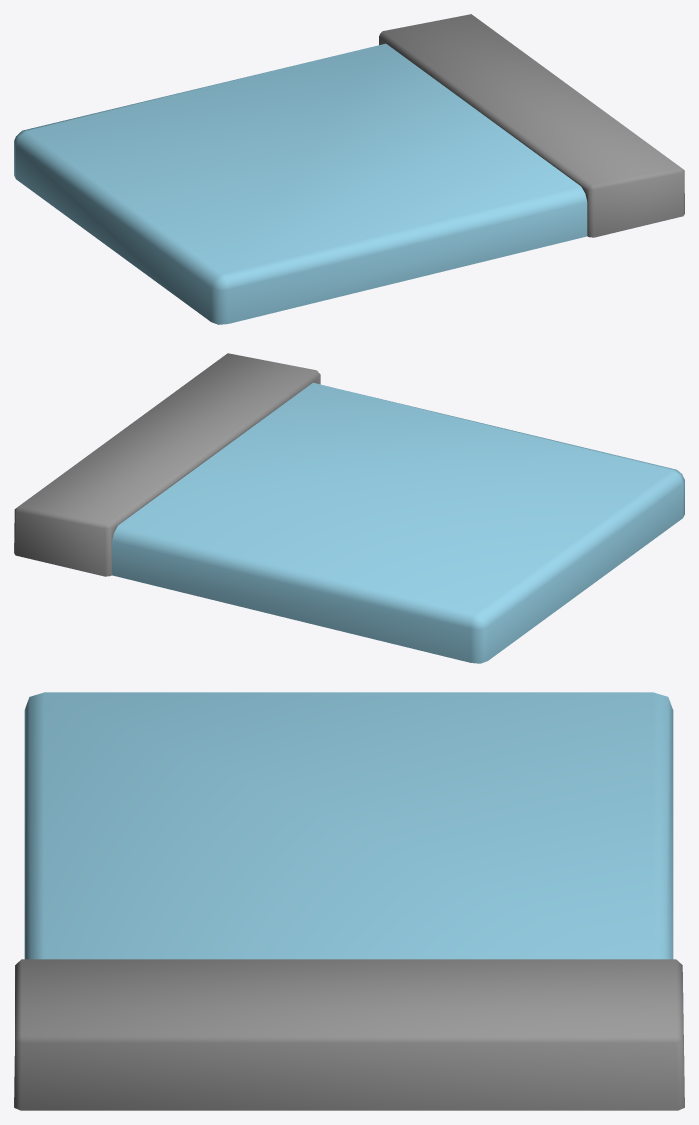
The model's file is PROPS_sheet_02.FBX.
3 renders of one model, top to bottom at view 1: azimuth 30°, elevation 25°; view 2: azimuth 150°, elevation 25°; view 3: azimuth 270°, elevation 25°, orthographic. The views are drawn at different scales.
Parts seen in each view (by area): view 1: PROPS_sheet_02; view 2: PROPS_sheet_02; view 3: PROPS_sheet_02.
Boxes of the visible parts, box(x1,y1,x2,y2) form: PROPS_sheet_02: box(14, 14, 684, 324); PROPS_sheet_02: box(14, 353, 684, 663); PROPS_sheet_02: box(14, 692, 684, 1110).
Bounding box in the file's own units: 228 × 24.14 × 182.
